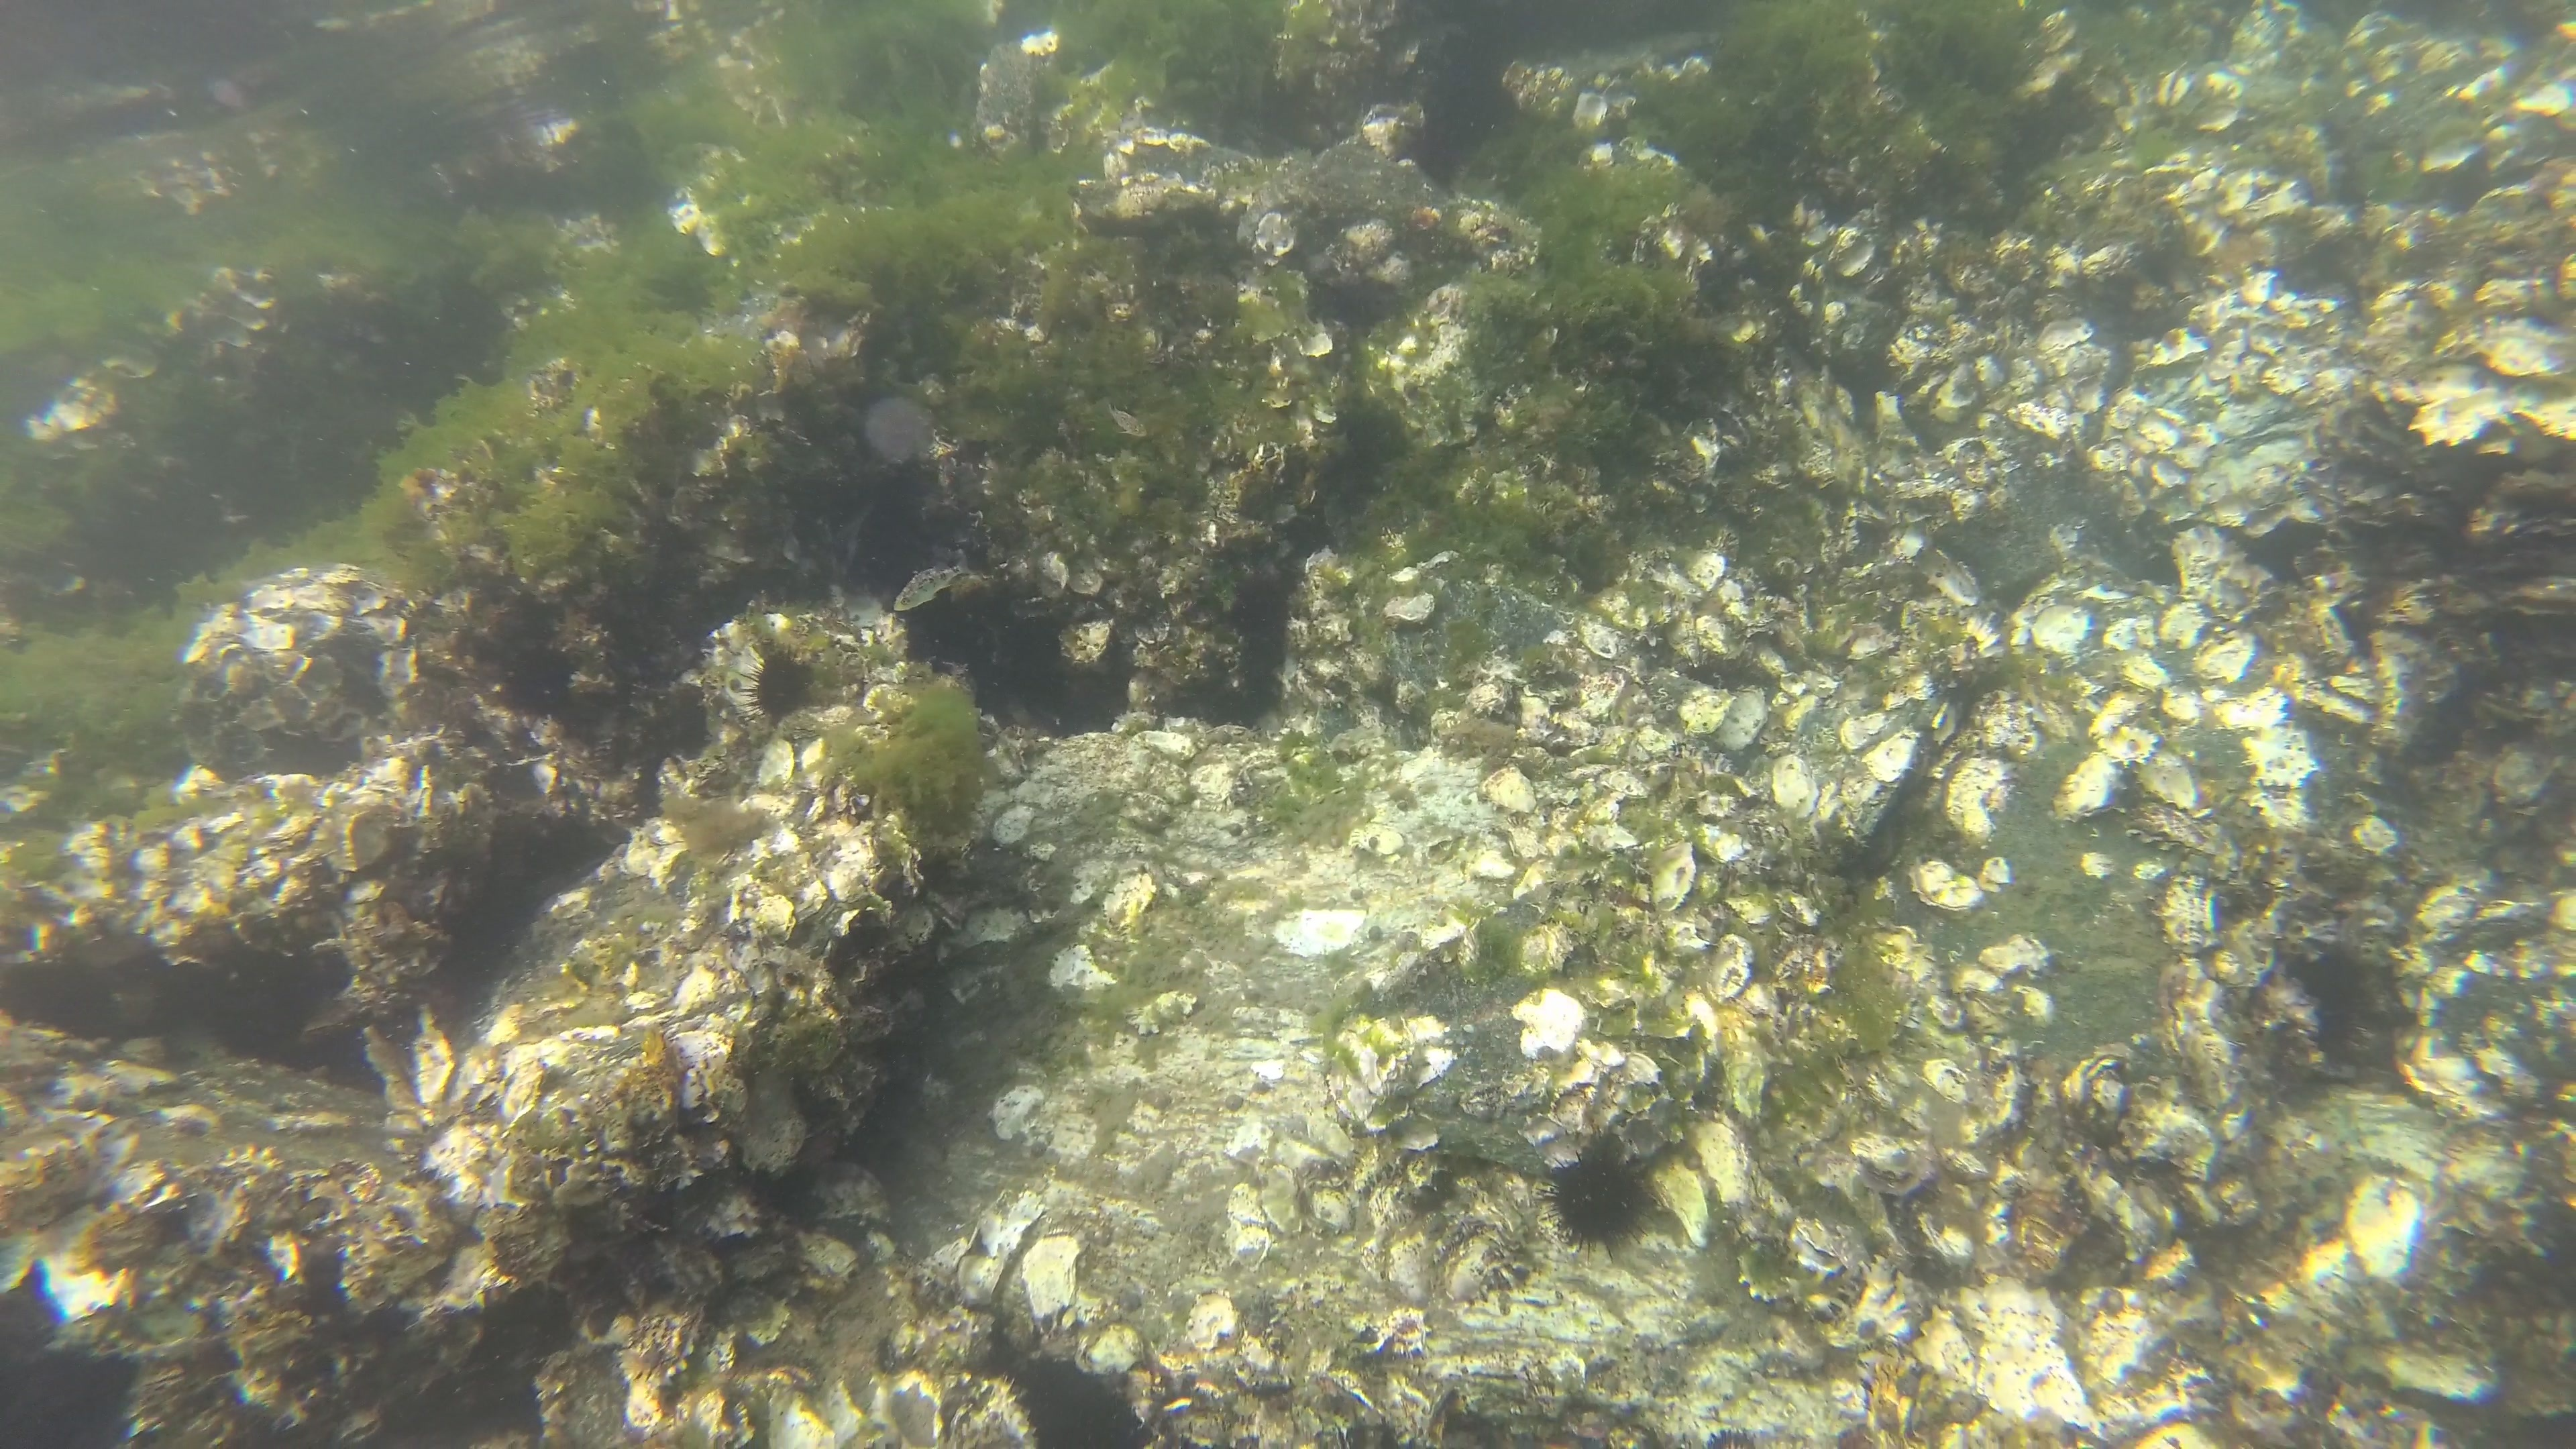echinus: (1543, 1141, 1660, 1258), (736, 651, 817, 727), (494, 649, 570, 720)
